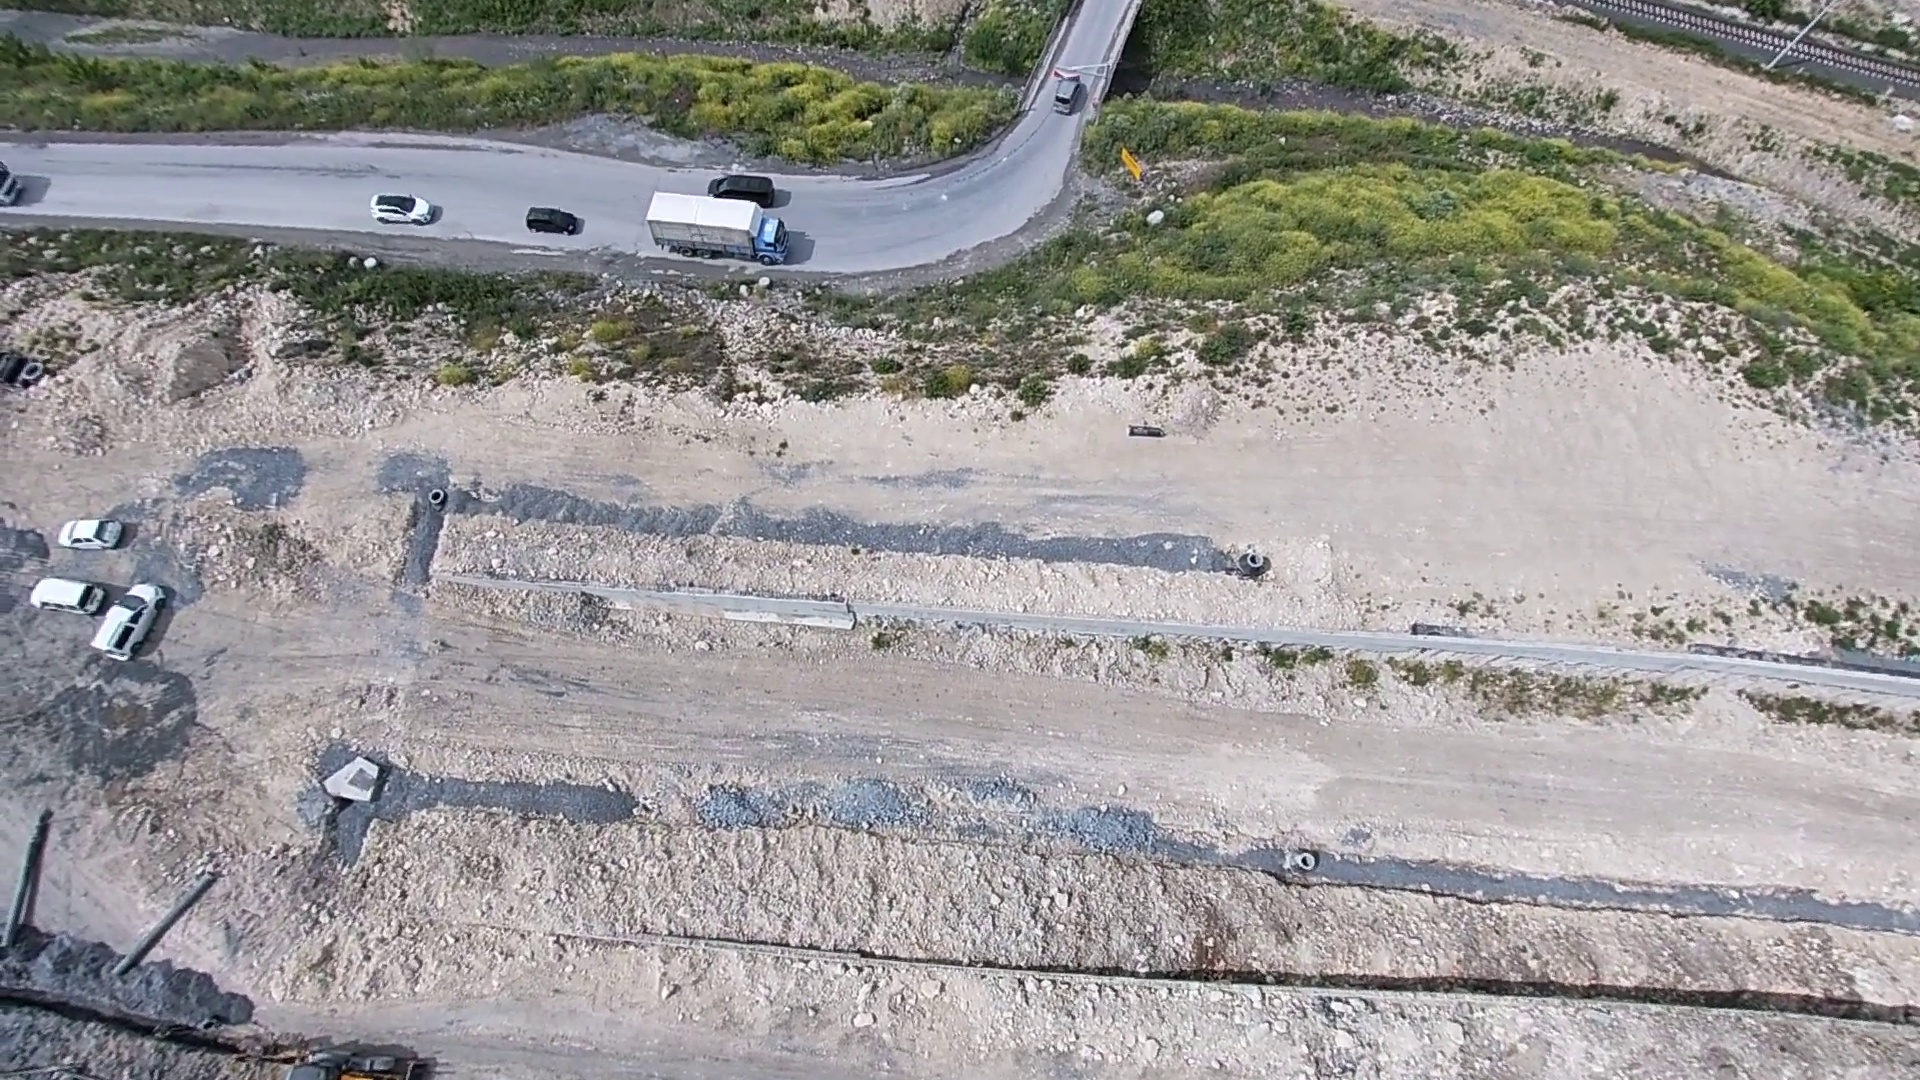arac: (647, 187, 795, 261), (88, 575, 189, 659), (53, 510, 138, 553), (22, 570, 98, 615), (365, 186, 438, 231), (1047, 63, 1097, 127), (705, 169, 785, 207), (524, 204, 582, 237)
